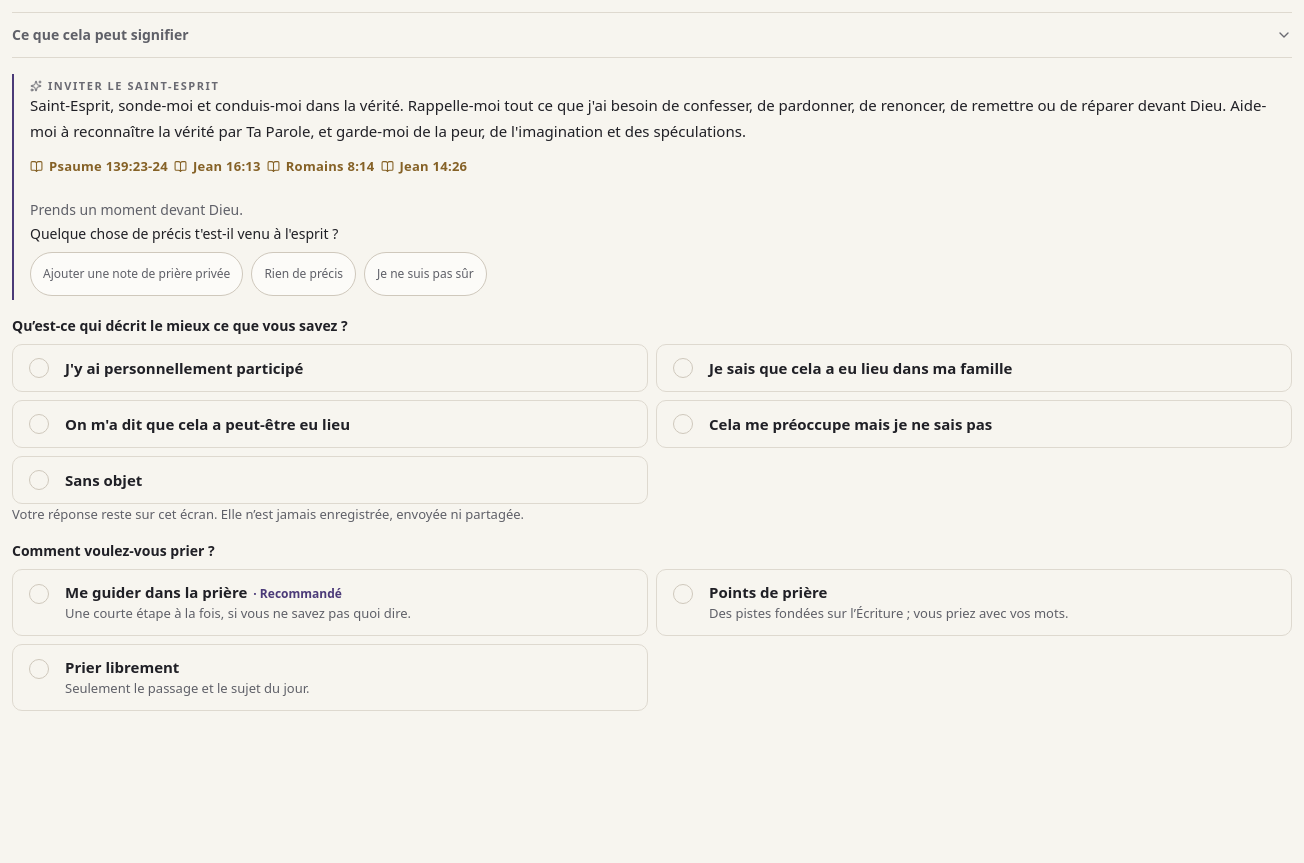
the category explanation › folds the definition and examples away until they are asked for
This screenshot has width=1304, height=863.
Expected: the text "Par exemple" is not shown
Click the button "Ce que cela peut signifier". click: x=100, y=34
box: [12, 13, 1292, 57]
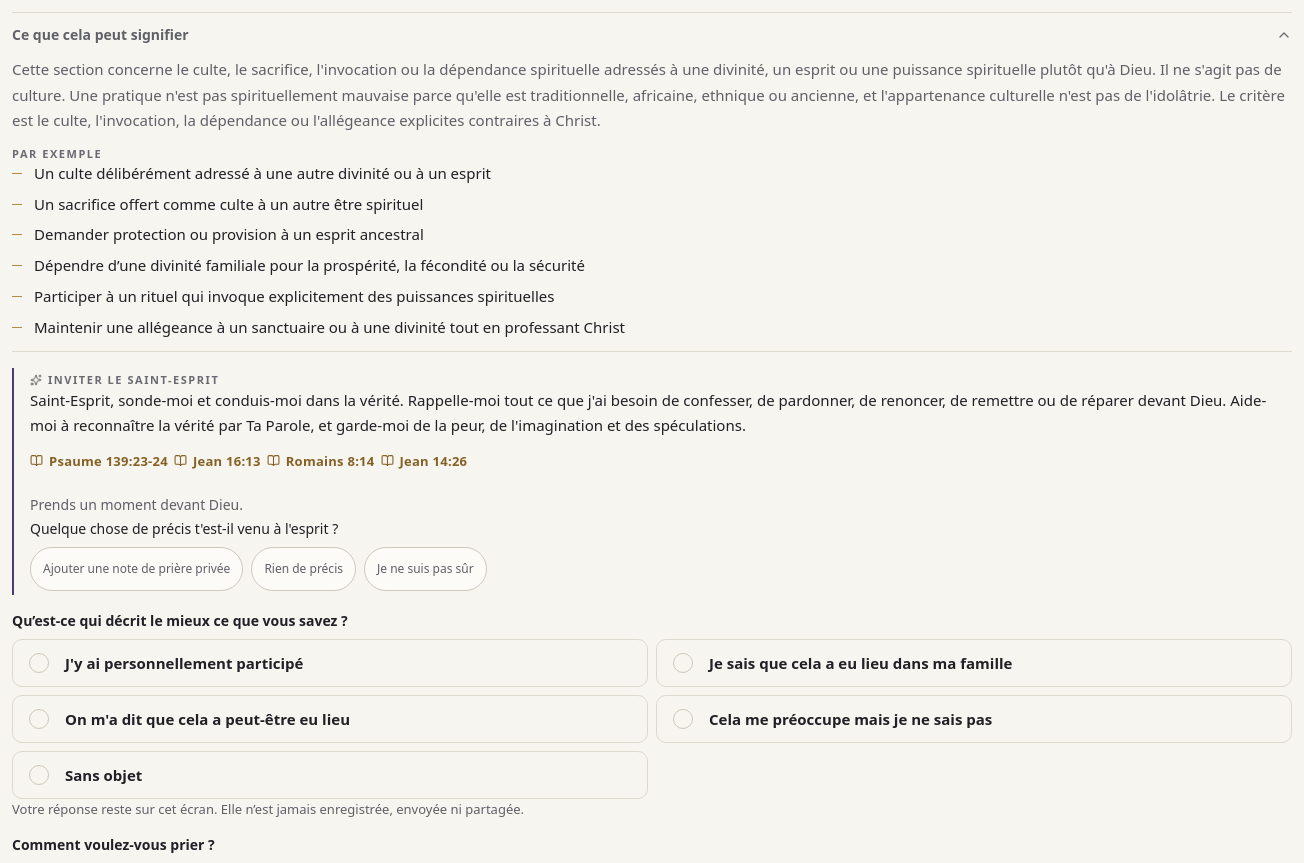
Expected: the heading "Par exemple" is shown, [12, 146, 102, 160]
